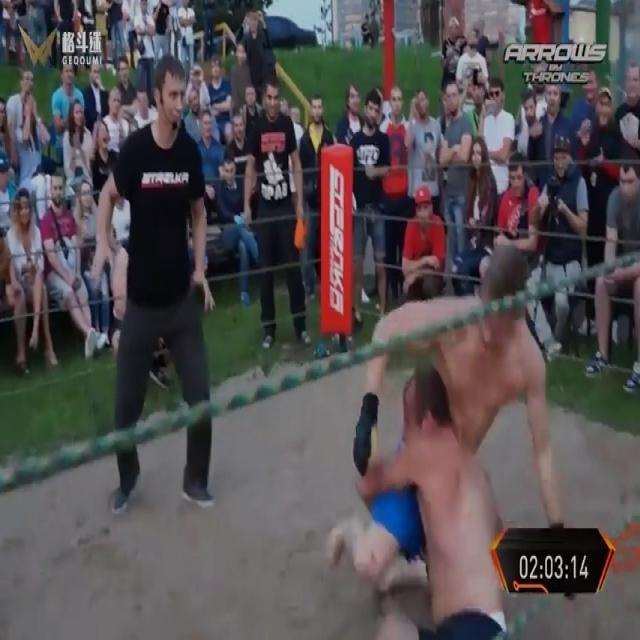fight: (330, 250, 570, 638)
non-fight: (91, 49, 217, 509)
